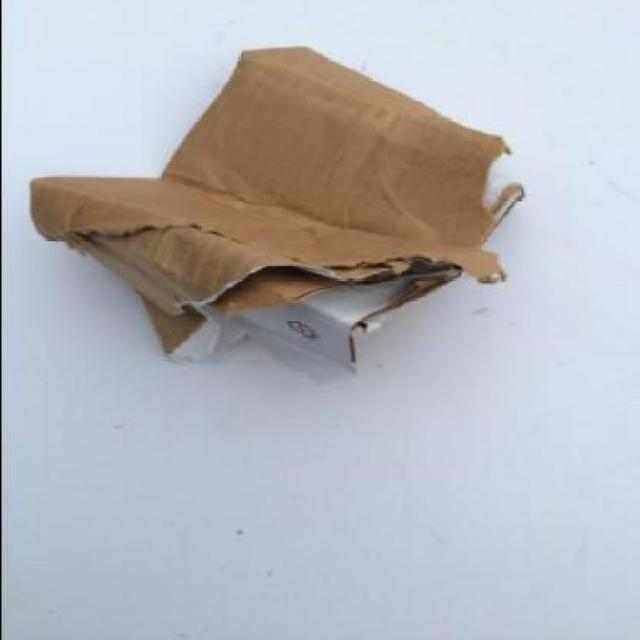box: (34, 46, 526, 372)
